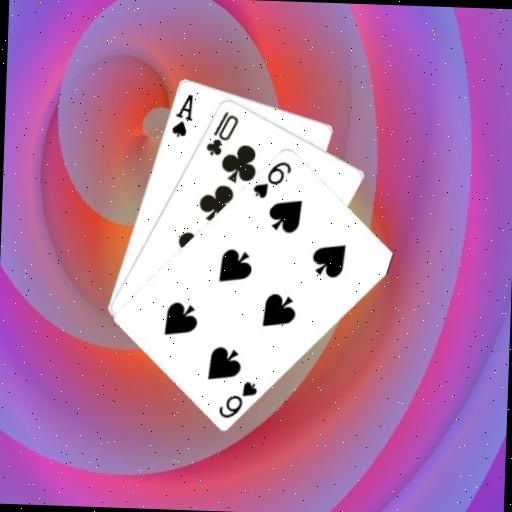10C: (201, 106, 240, 157)
6S: (249, 157, 293, 201), (214, 377, 259, 420)
AS: (168, 90, 195, 138)
